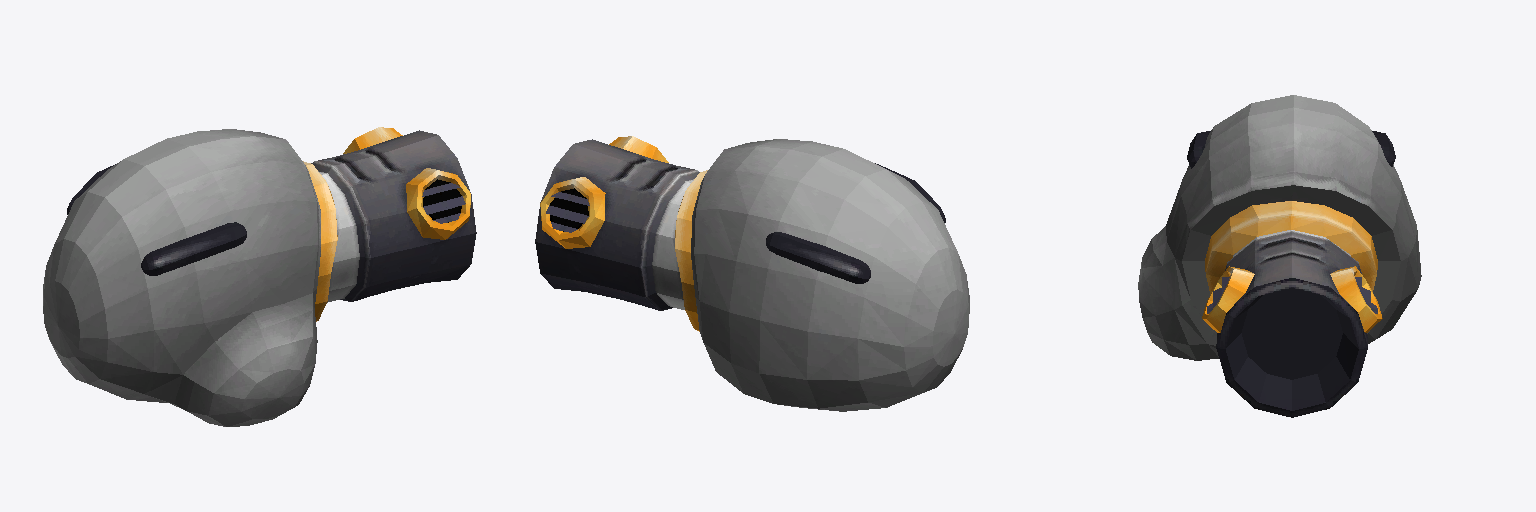
3 views of the same model, side by side, from view 1: azimuth 30°, elevation 25°; view 2: azimuth 150°, elevation 25°; view 3: azimuth 270°, elevation 25° (orthographic).
Visible parts, largest first — view 1: Mesh0; view 2: Mesh0; view 3: Mesh0.
Boxes of the visible parts, box(x1,y1,x2,y2) form: Mesh0: box(43, 127, 476, 426); Mesh0: box(535, 136, 969, 411); Mesh0: box(1138, 95, 1421, 417).
Bounding box in the file's own units: 20.37 × 12.07 × 13.
Materials: 1 (1 with a texture image).